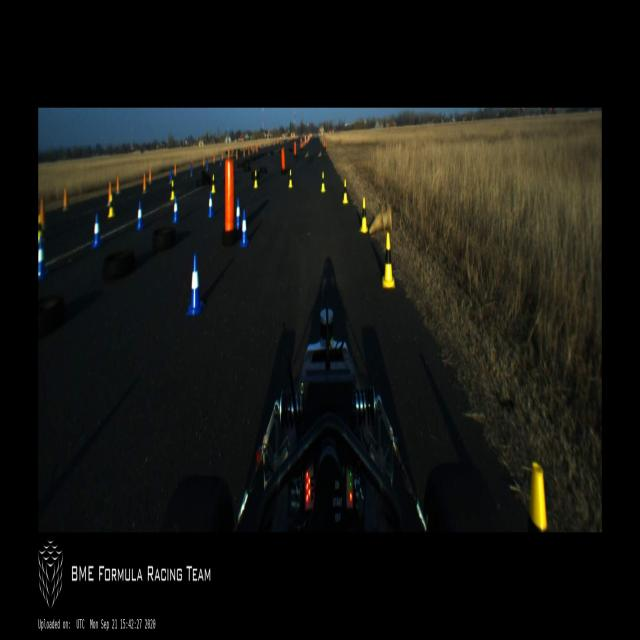blue_cone: (186, 252, 204, 317), (38, 235, 48, 280), (90, 214, 102, 249), (240, 208, 249, 248), (234, 198, 242, 230), (136, 202, 145, 230), (172, 195, 180, 223), (207, 190, 213, 219)
unknown_cone: (369, 204, 385, 234), (384, 206, 394, 228), (39, 198, 45, 225), (63, 188, 68, 210), (142, 172, 147, 194), (107, 182, 112, 204), (116, 176, 120, 194), (149, 169, 151, 184), (174, 162, 176, 177), (202, 157, 205, 167), (170, 168, 172, 180), (190, 164, 192, 176), (206, 159, 208, 169), (213, 154, 215, 164), (220, 157, 222, 165)
yellow_cone: (530, 462, 549, 530), (382, 232, 395, 290), (360, 197, 368, 234), (108, 194, 115, 218), (38, 216, 44, 244), (342, 179, 348, 203), (210, 173, 216, 194), (320, 172, 326, 192), (170, 180, 175, 202), (288, 169, 293, 188), (253, 170, 258, 188)
